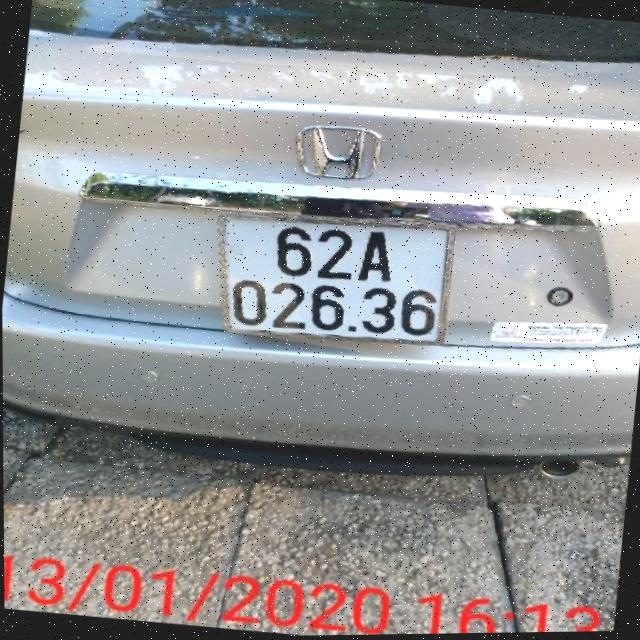car: (0, 0, 640, 523)
plate: (198, 195, 467, 361)
